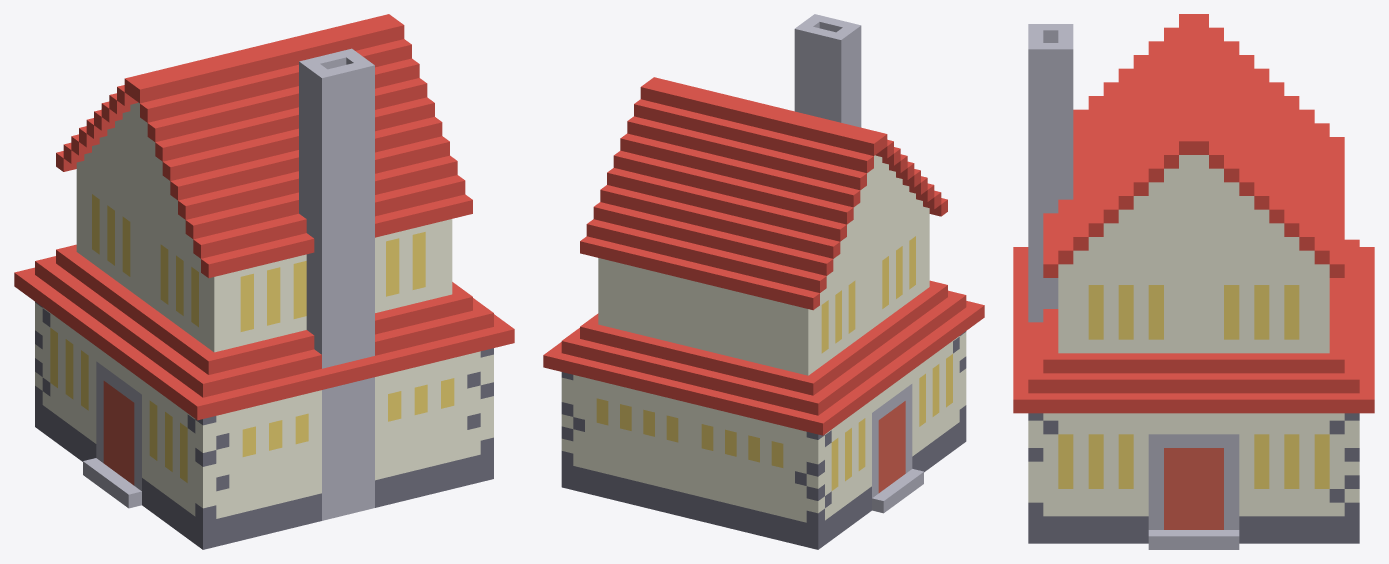
Rendered from Casa2.glb.
The picture shows the model from 3 angles, left to right: view 1: azimuth 30°, elevation 25°; view 2: azimuth 150°, elevation 25°; view 3: azimuth 270°, elevation 25°; orthographic projection. The views are drawn at different scales.
Visible parts, largest first — view 1: Build- 3; view 2: Build- 3; view 3: Build- 3.
Boxes of the visible parts, left/top/right/bottom form: Build- 3: left=14, top=14, right=514, bottom=549; Build- 3: left=543, top=14, right=984, bottom=549; Build- 3: left=1013, top=14, right=1374, bottom=549.
Bounding box in the file's own units: 2.4 × 3.2 × 2.4.
Materials: 1 (1 with a texture image).
